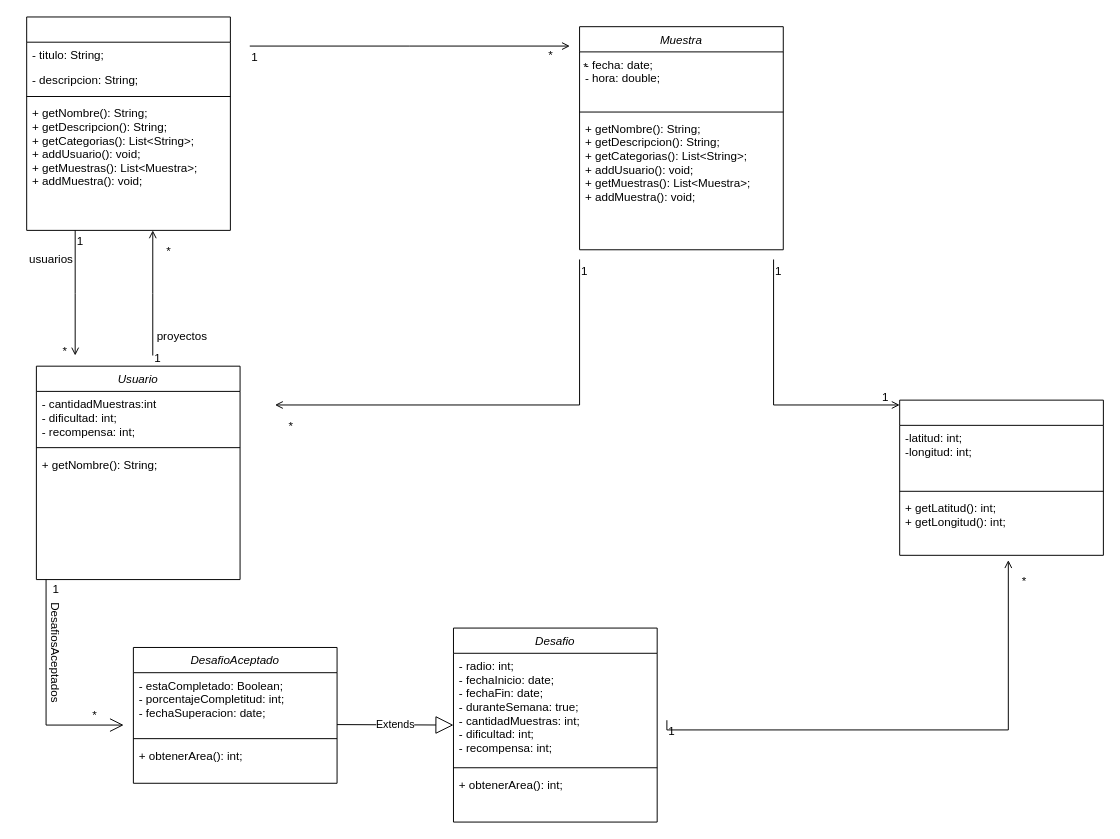
The diagram is 1120 pixels wide and 839 high, and some of its shapes have lost their labels. The box of each missing label's shape, as (x1, y1, x2, y2) in pixels:
Coordenada: (899, 399, 1103, 555)
Proyecto: (26, 16, 230, 230)
